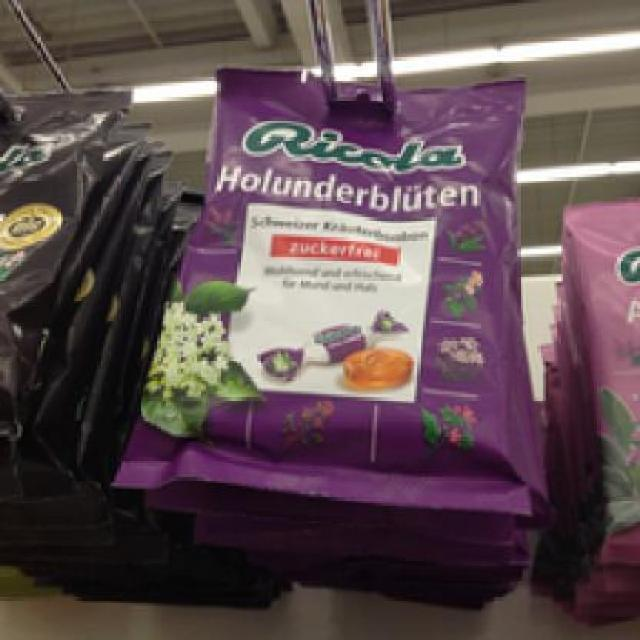Candy: (122, 80, 538, 500)
